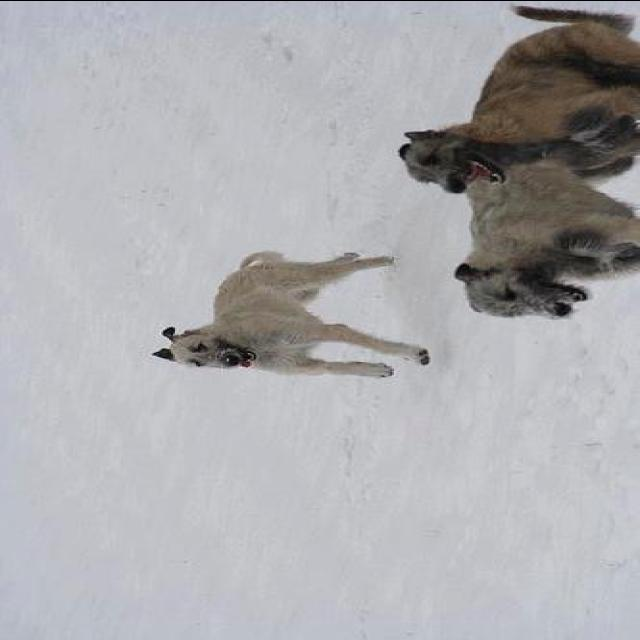irish_wolfhound: (392, 1, 638, 197), (154, 247, 430, 379), (454, 160, 638, 320)
